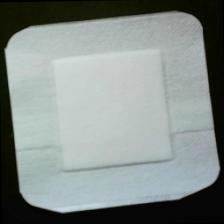Dressing: (3, 9, 224, 218)
